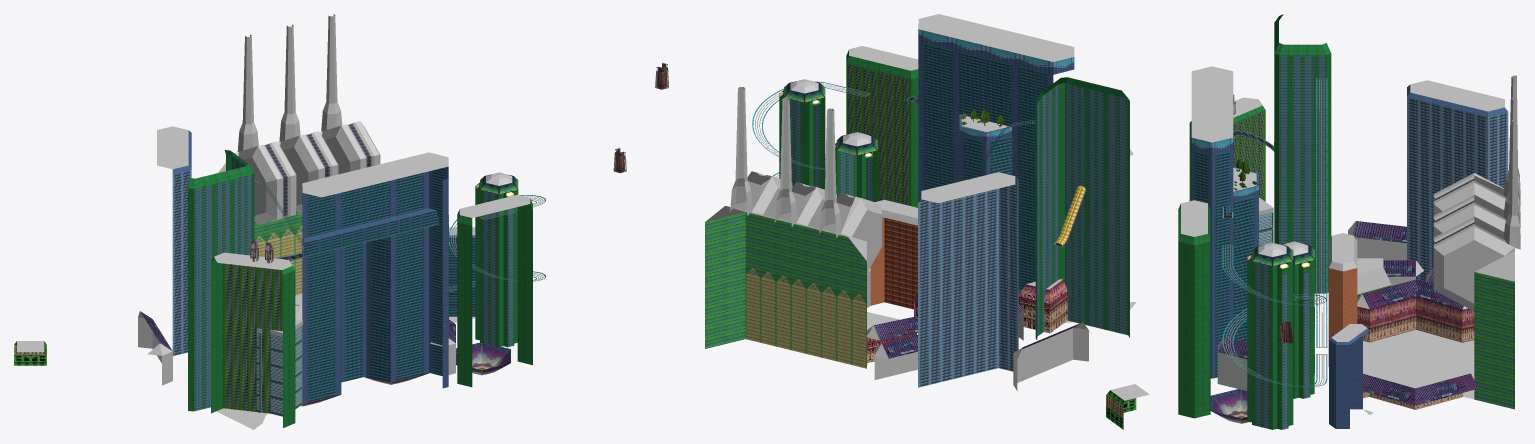
Rendered from City_Course5.obj.
3 renders of one model, left to right at view 1: azimuth 30°, elevation 25°; view 2: azimuth 150°, elevation 25°; view 3: azimuth 270°, elevation 25°, orthographic. The views are drawn at different scales.
Visible parts, largest first — view 1: obj4, obj2; view 2: obj4, obj2, obj1; view 3: obj2, obj4, obj1.
Boxes of the visible parts, x1,y1,x2,y2 form: obj4: (157, 126, 626, 427); obj2: (14, 14, 545, 429); obj4: (655, 42, 1133, 387); obj2: (705, 14, 1149, 429); obj1: (753, 82, 1035, 156); obj2: (1191, 14, 1520, 429); obj4: (1178, 55, 1514, 429); obj1: (1223, 78, 1326, 305).
Size of the model in its own units: 14062 by 6701 by 7299.
